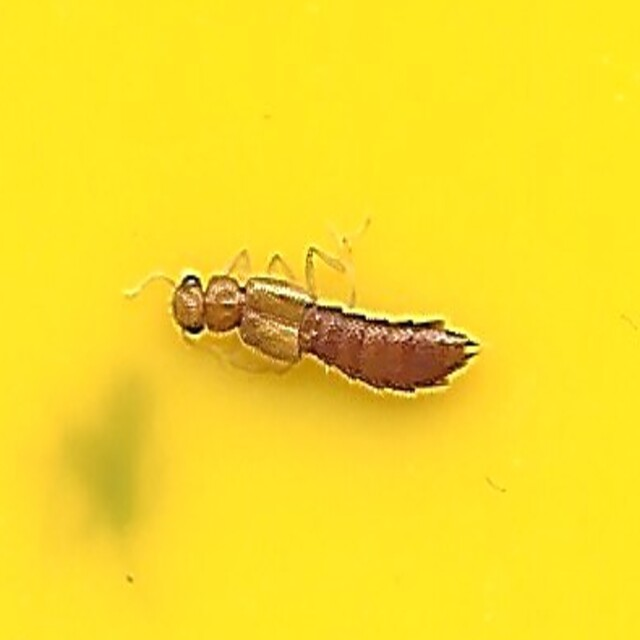Coleoptera: (162, 235, 478, 405)
